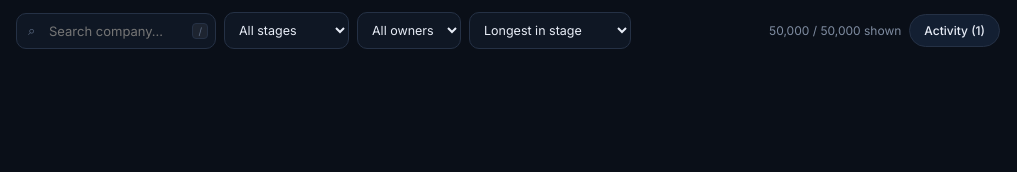
Toolbar: activity panel › lists a logged move after a bulk action
Click the button "Activity (1)": {"x": 955, "y": 30} [909,14,1000,47]
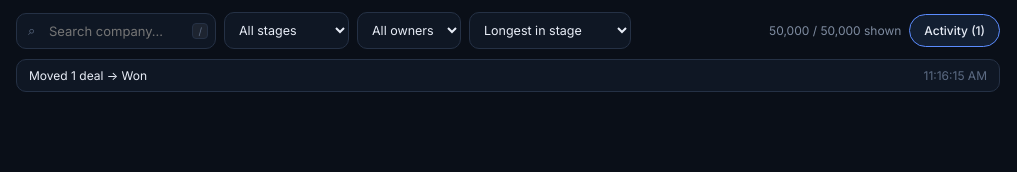
Check: the text "Moved 1 deal → Won" is shown, box [29,68,147,83]
